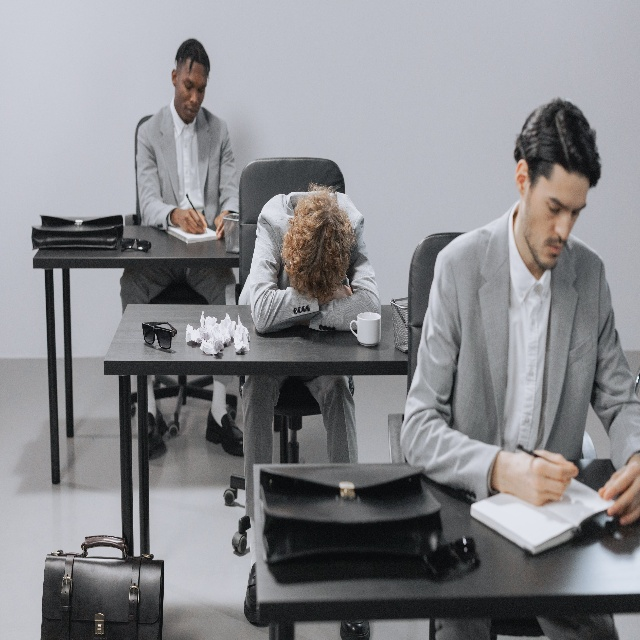Gafas: (424, 535, 480, 575), (142, 317, 177, 349), (120, 236, 152, 255)
Sin_guantes: (512, 442, 587, 513), (596, 456, 640, 529), (179, 206, 207, 233), (214, 212, 227, 238)
